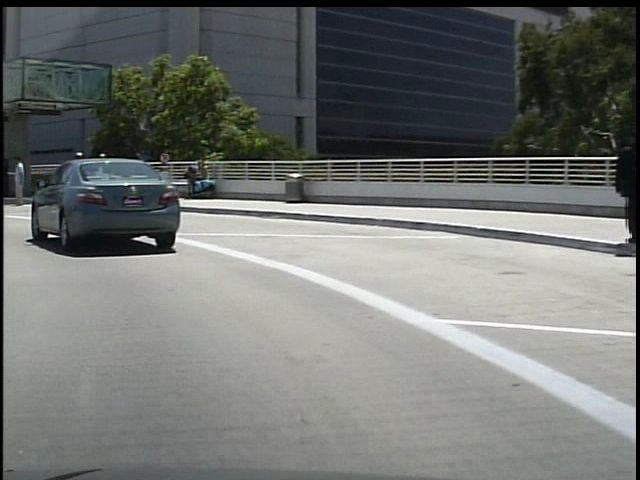person: (603, 118, 640, 252), (7, 152, 28, 209), (91, 149, 112, 202), (65, 147, 85, 200)
